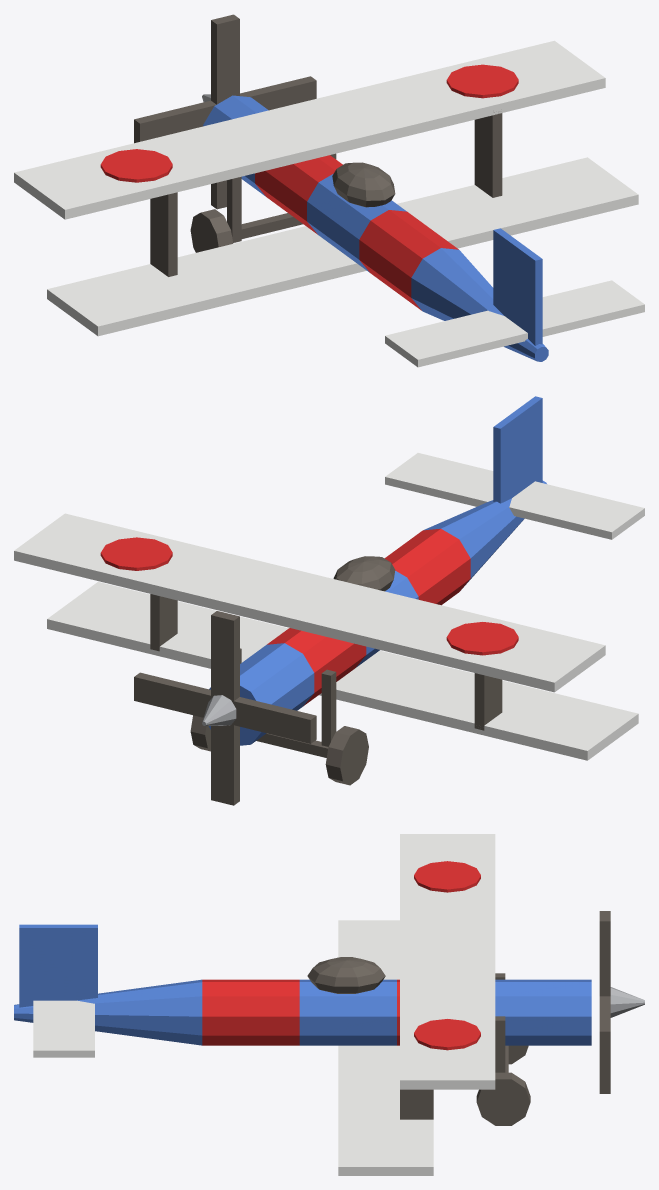
File: boss-3-stripes.glb
The picture shows the model from 3 angles, top to bottom: view 1: azimuth 30°, elevation 25°; view 2: azimuth 150°, elevation 25°; view 3: azimuth 270°, elevation 25°; orthographic projection. The views are drawn at different scales.
Parts seen in each view (by area): view 1: boss-3-stripes; view 2: boss-3-stripes; view 3: boss-3-stripes.
Part boxes in pixels (box(x1,y1,x2,y2)): boss-3-stripes: box(14, 14, 644, 367); boss-3-stripes: box(14, 396, 644, 805); boss-3-stripes: box(14, 834, 644, 1175).
Size of the model in its own units: 5.2 by 1.73 by 5.63.
